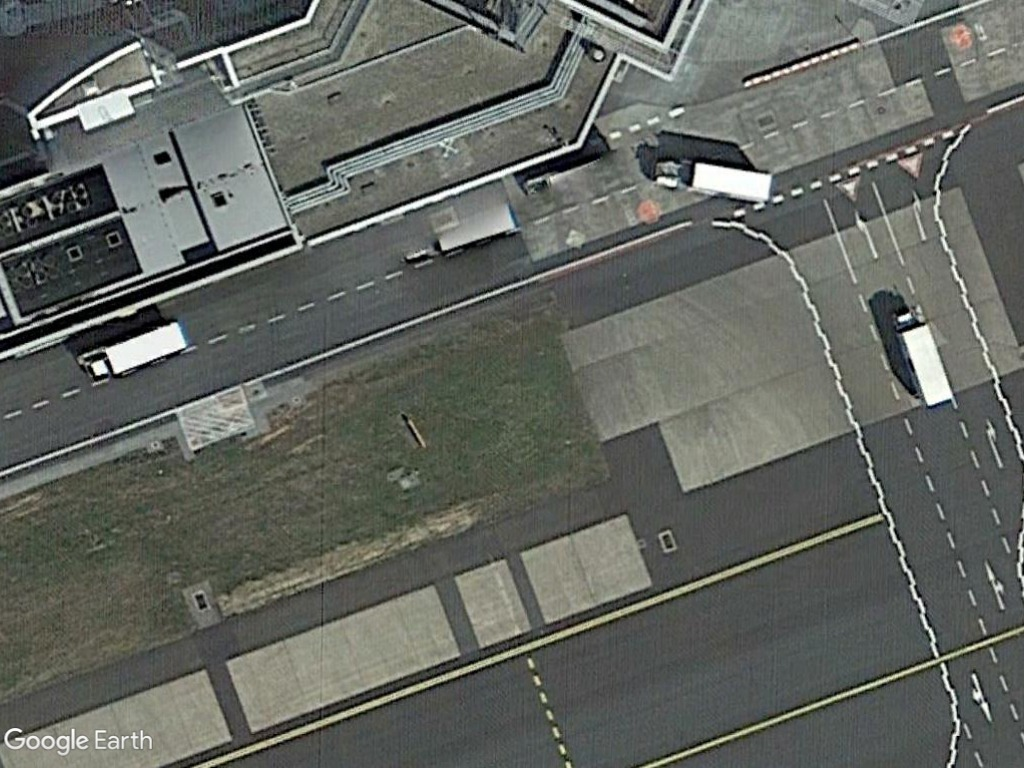truck: (78, 315, 188, 394), (889, 306, 960, 413), (651, 155, 779, 205)
